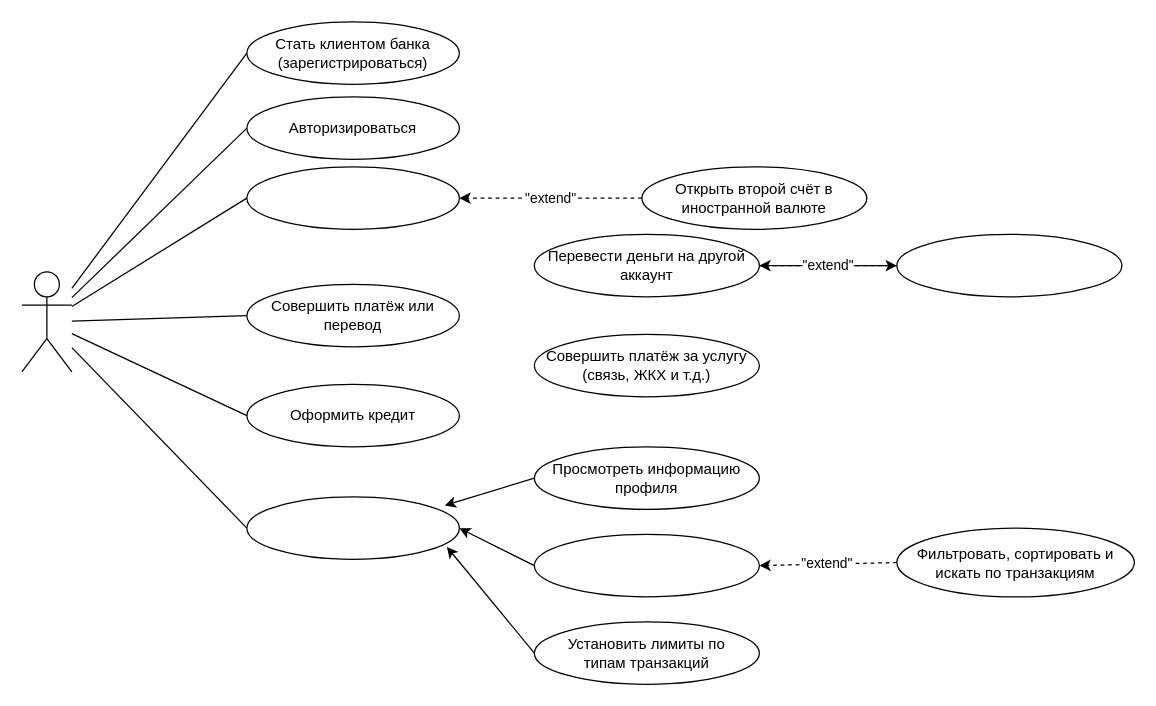
This 1156x706 diagram has some shape labels left out. The shapes that lost their labels are listed below. From the top down, each one's centre as x and y in pixels, then its label:
At pixel 352 197: "Открыть счёт".
At pixel 1009 265: "Перевести по QR-коду".
At pixel 46 321: "Клиент".
At pixel 352 527: "Просмотр информации".
At pixel 646 565: "Просмотреть информацию о транзакциях".
